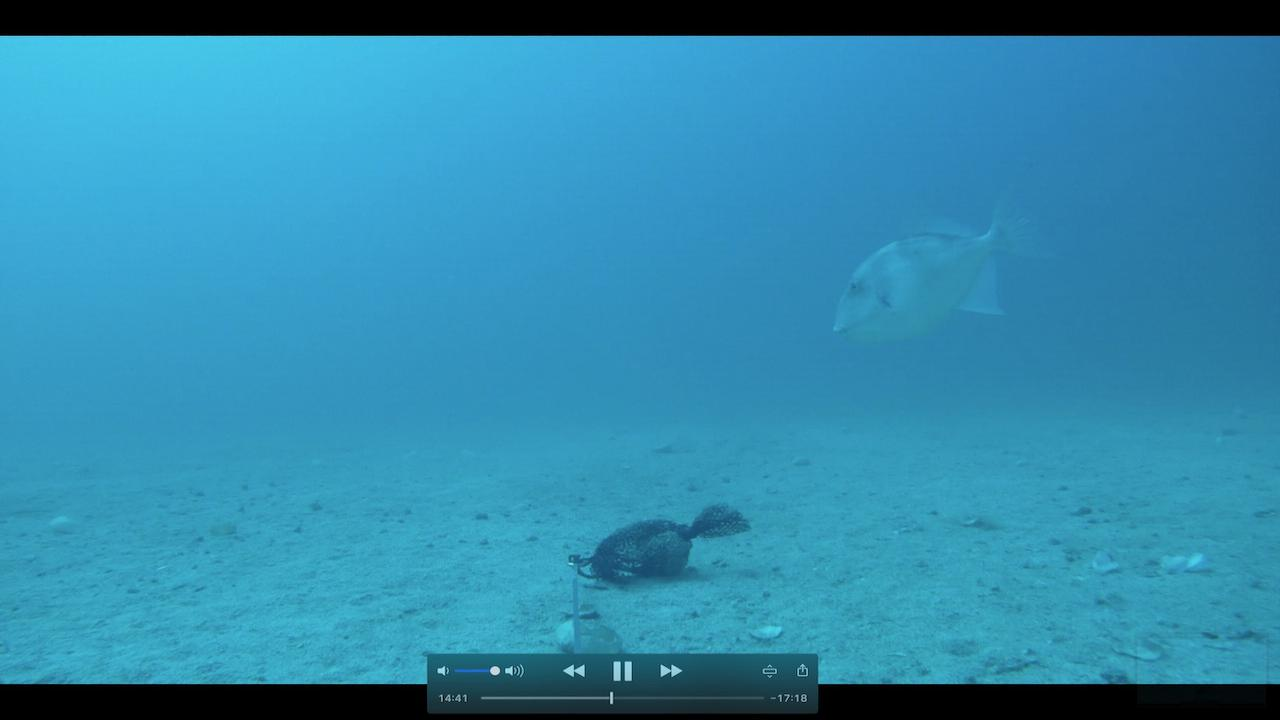balistes: (812, 172, 1067, 347)
